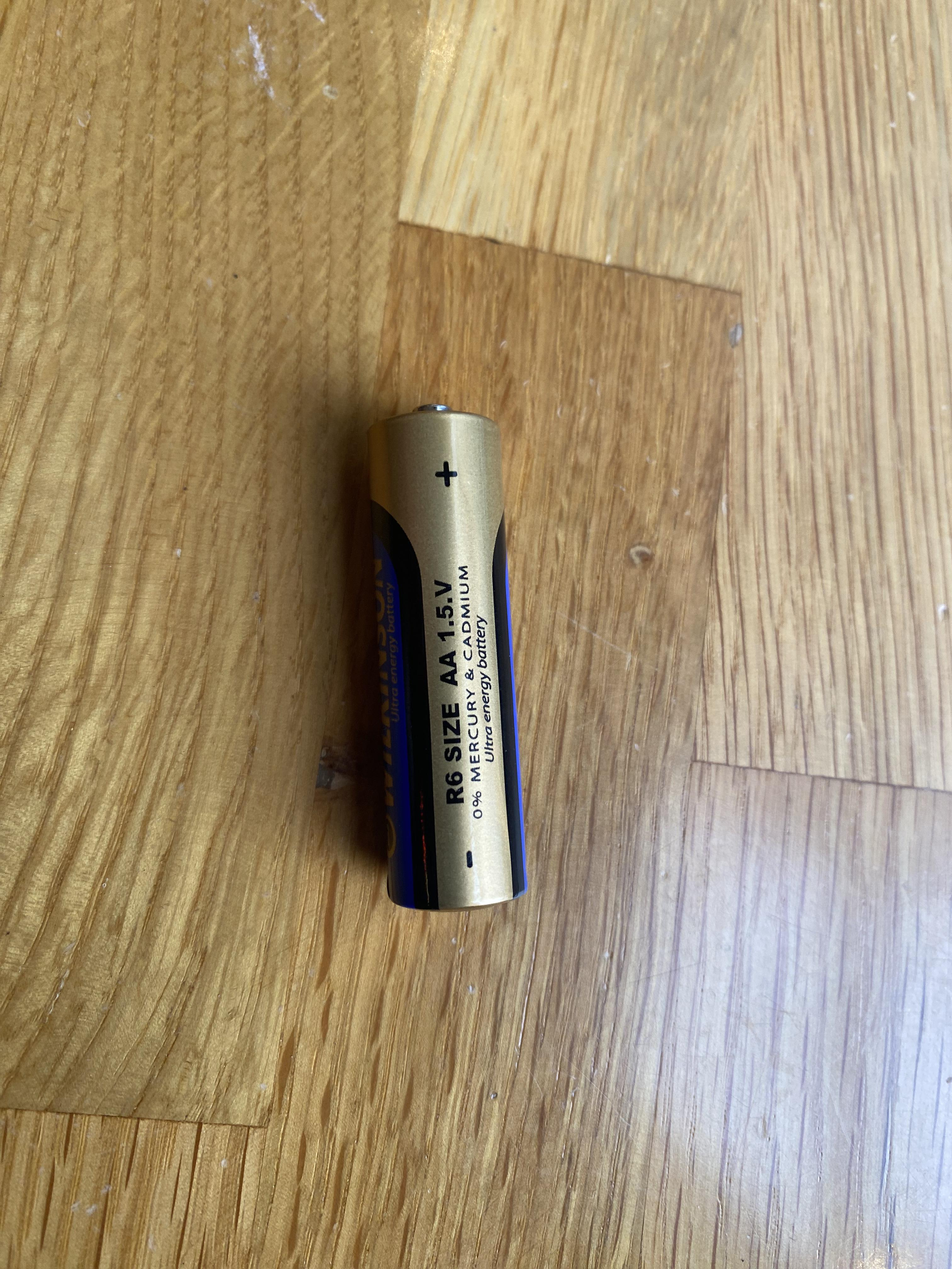AA: (365, 402, 530, 911)
